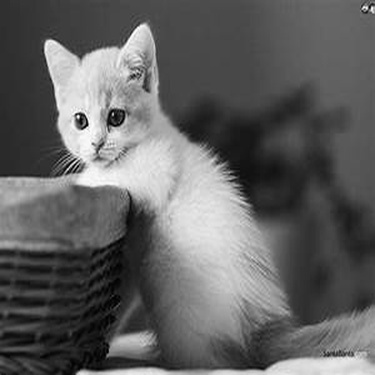cat: (41, 21, 367, 361)
